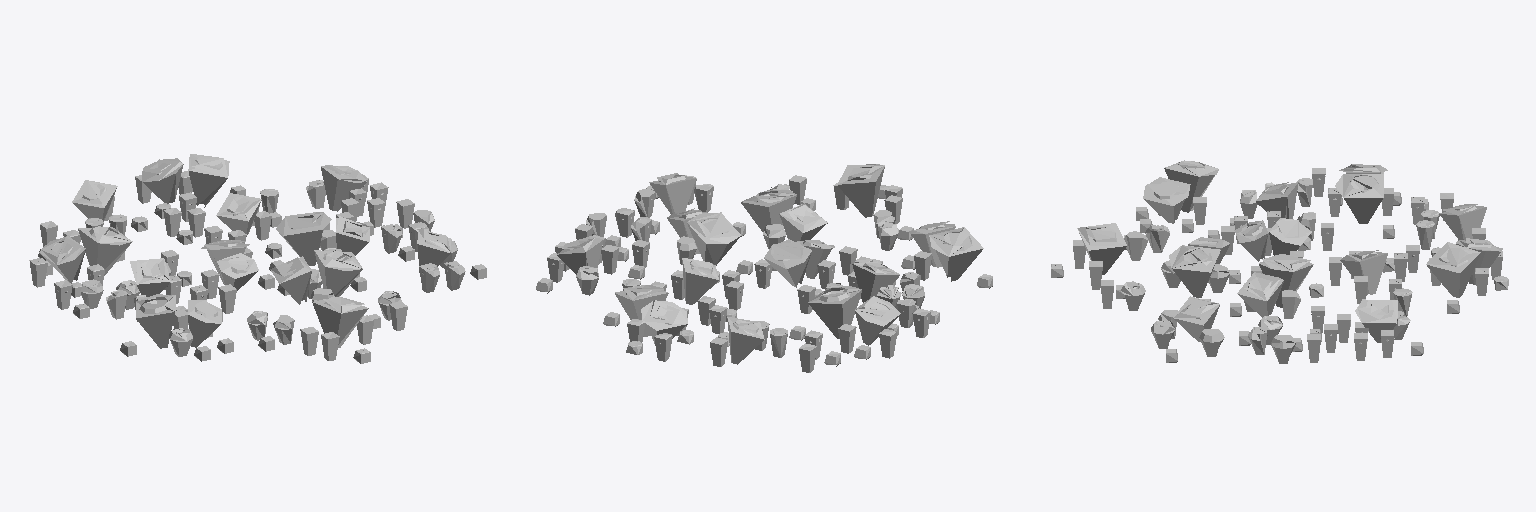
File: Sippysup_Stage3_LOD2.obj
The picture shows the model from 3 angles: view 1: azimuth 30°, elevation 25°; view 2: azimuth 150°, elevation 25°; view 3: azimuth 270°, elevation 25°; orthographic projection.
Visible parts, largest first — view 1: Cylinder.321; view 2: Cylinder.321; view 3: Cylinder.321.
Part boxes in pixels (x1,y1,x2,y2): Cylinder.321: (29,154,486,363); Cylinder.321: (536,164,992,372); Cylinder.321: (1051,160,1508,363).
Bounding box in the file's own units: 1.61 × 0.2021 × 1.77.